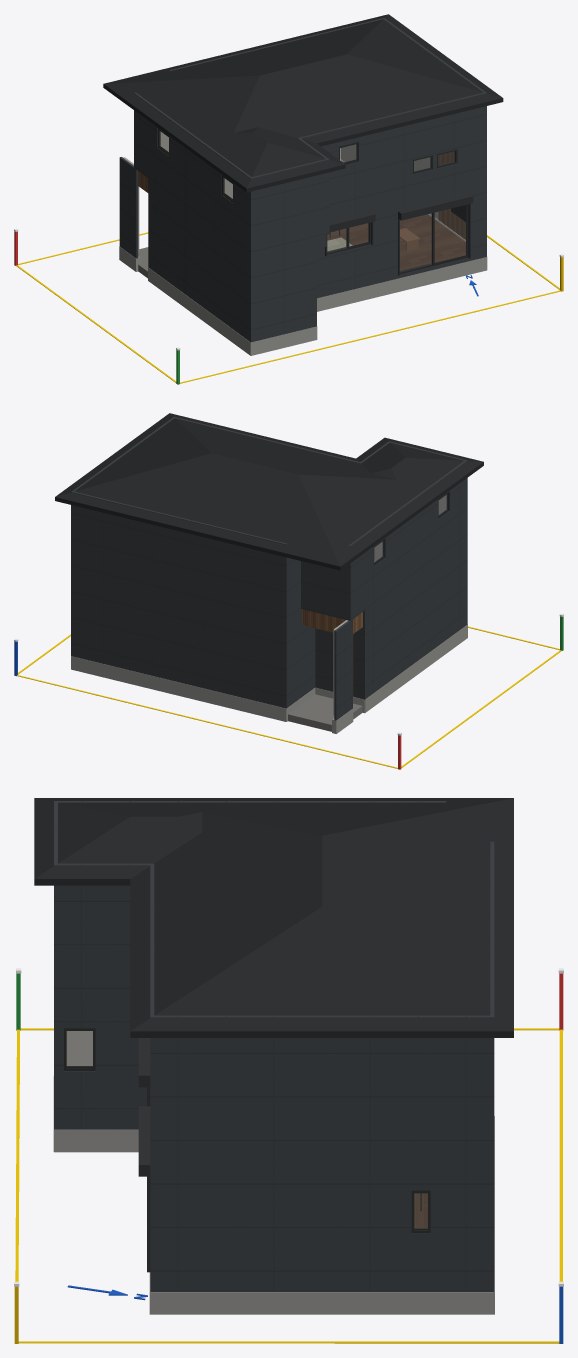
File: B_20_half.glb
The picture shows the model from 3 angles, top to bottom: view 1: azimuth 30°, elevation 25°; view 2: azimuth 150°, elevation 25°; view 3: azimuth 270°, elevation 25°; orthographic projection. The views are drawn at different scales.
Visible parts, largest first — view 1: siding, roof, found, glass, floor, shutter, lotline, frame, wall, accent; view 2: siding, roof, found, lotline, tile, woodceil, wall; view 3: siding, roof, found, lotline, shutter, glass, wall, frame.
Boxes of the visible parts, bbox=[...] form: siding: bbox=[119, 18, 486, 342]; roof: bbox=[103, 14, 503, 192]; found: bbox=[119, 246, 487, 355]; glass: bbox=[160, 132, 465, 271]; floor: bbox=[327, 214, 465, 270]; shutter: bbox=[325, 193, 473, 275]; lotline: bbox=[16, 232, 560, 383]; frame: bbox=[158, 128, 468, 274]; wall: bbox=[123, 131, 438, 253]; accent: bbox=[438, 151, 465, 239]; siding: bbox=[71, 417, 467, 720]; roof: bbox=[55, 413, 483, 570]; found: bbox=[71, 624, 467, 733]; lotline: bbox=[17, 626, 561, 768]; tile: bbox=[288, 694, 362, 731]; woodceil: bbox=[302, 609, 362, 633]; wall: bbox=[333, 495, 446, 715]; siding: bbox=[54, 801, 494, 1291]; roof: bbox=[34, 798, 513, 1037]; found: bbox=[53, 1076, 494, 1314]; lotline: bbox=[15, 1028, 562, 1343]; shutter: bbox=[138, 1038, 150, 1272]; glass: bbox=[67, 1031, 427, 1227]; wall: bbox=[66, 1031, 92, 1065]; frame: bbox=[64, 1028, 430, 1233].
Size of the model in its own units: 14.14 by 7.01 by 10.42.
Materials: 31 (6 with a texture image).
